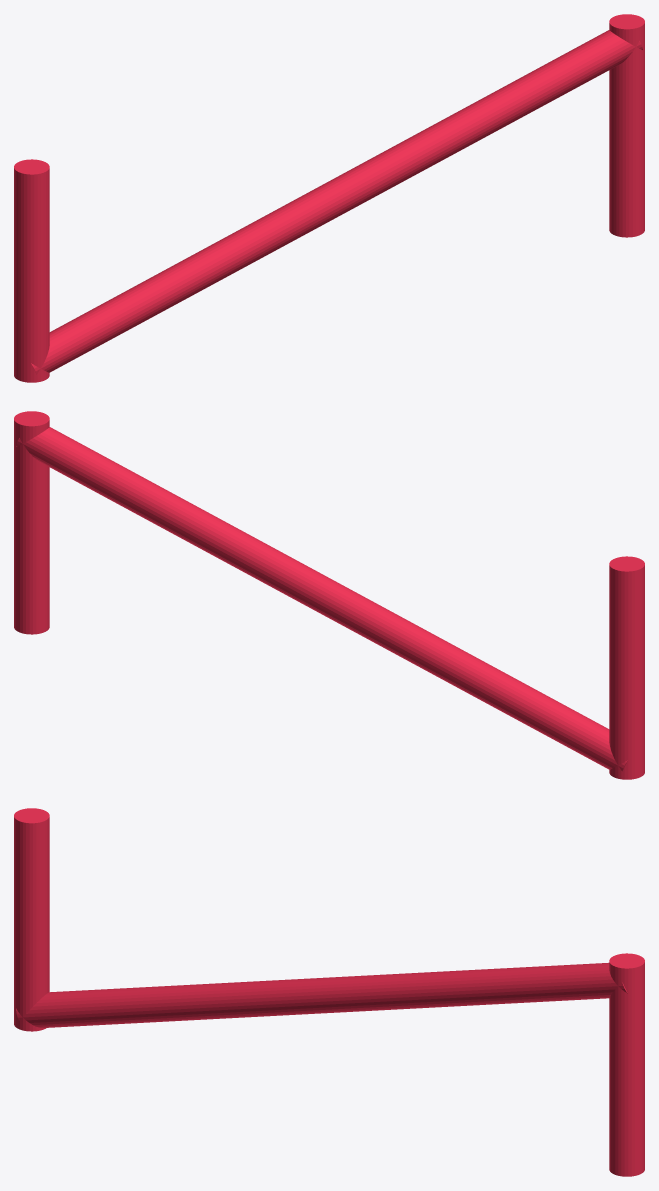
The model's file is BarObstacle.fbx.
The picture shows the model from 3 angles, top to bottom: view 1: azimuth 30°, elevation 25°; view 2: azimuth 150°, elevation 25°; view 3: azimuth 330°, elevation 25°; orthographic projection.
Visible parts, largest first — view 1: Cylinder.006; view 2: Cylinder.006; view 3: Cylinder.006.
Part boxes in pixels (bbox=[...]): Cylinder.006: bbox=[14, 14, 644, 382]; Cylinder.006: bbox=[14, 411, 644, 779]; Cylinder.006: bbox=[14, 808, 644, 1176].
Bounding box in the file's own units: 236 × 76.13 × 11.66.
1 material, 1 textured.
